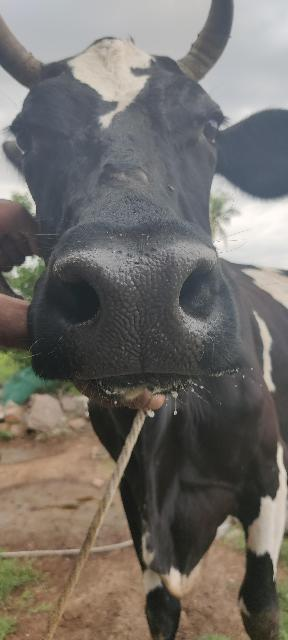Muzzle: (80, 251, 197, 375)
